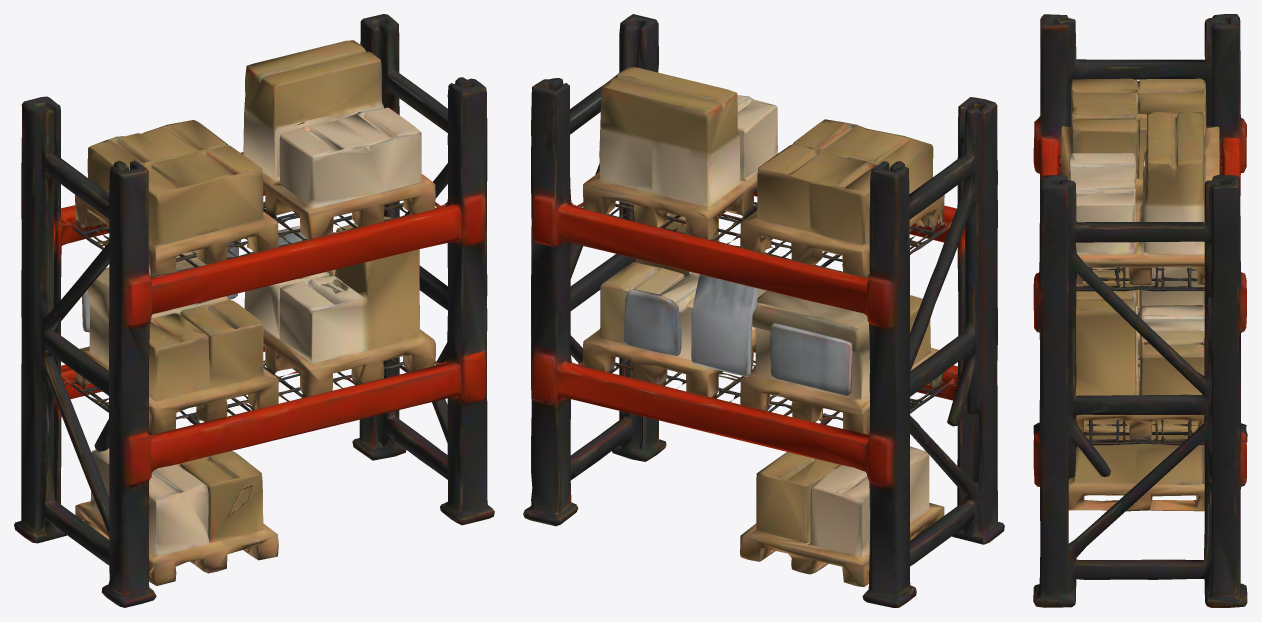
Rendered from pallet_rack.glb.
3 views of the same model, side by side, from view 1: azimuth 30°, elevation 25°; view 2: azimuth 150°, elevation 25°; view 3: azimuth 270°, elevation 25° (orthographic). The views are drawn at different scales.
Visible parts, largest first — view 1: geometry_0; view 2: geometry_0; view 3: geometry_0.
Part boxes in pixels (bbox=[...]): geometry_0: bbox=[14, 14, 494, 607]; geometry_0: bbox=[523, 14, 1004, 607]; geometry_0: bbox=[1033, 14, 1247, 607].
Bounding box in the file's own units: 0.9176 × 1 × 0.464.
1 material, 1 textured.
